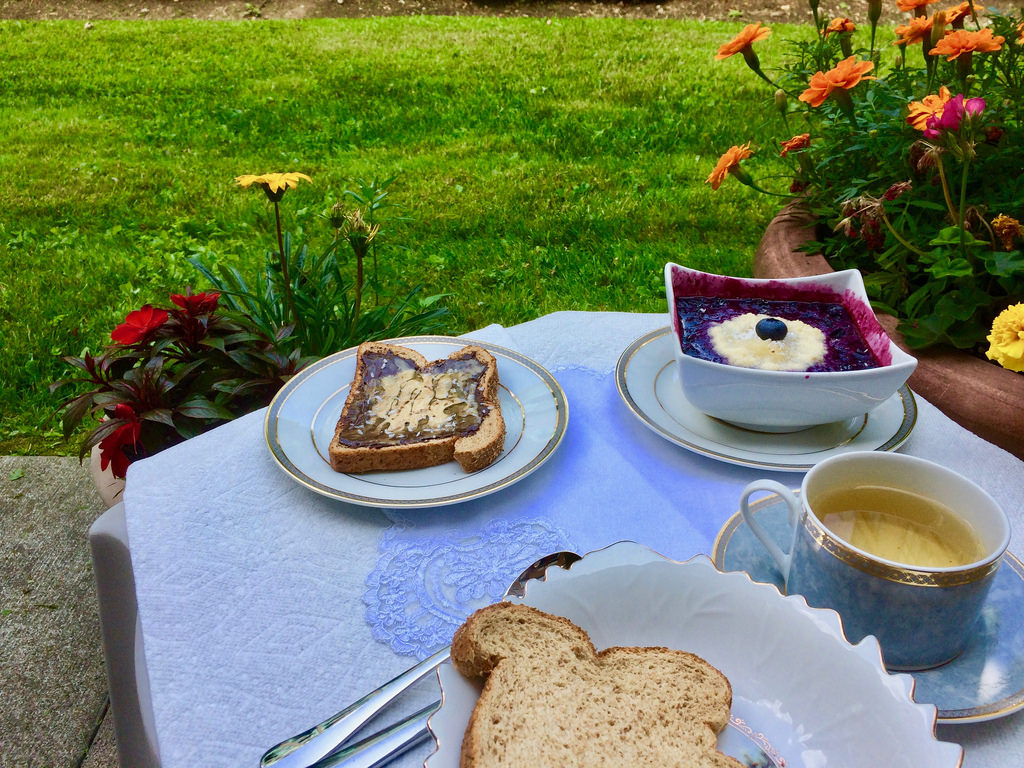slice of bread: (475, 612, 699, 768), (345, 338, 499, 466)
